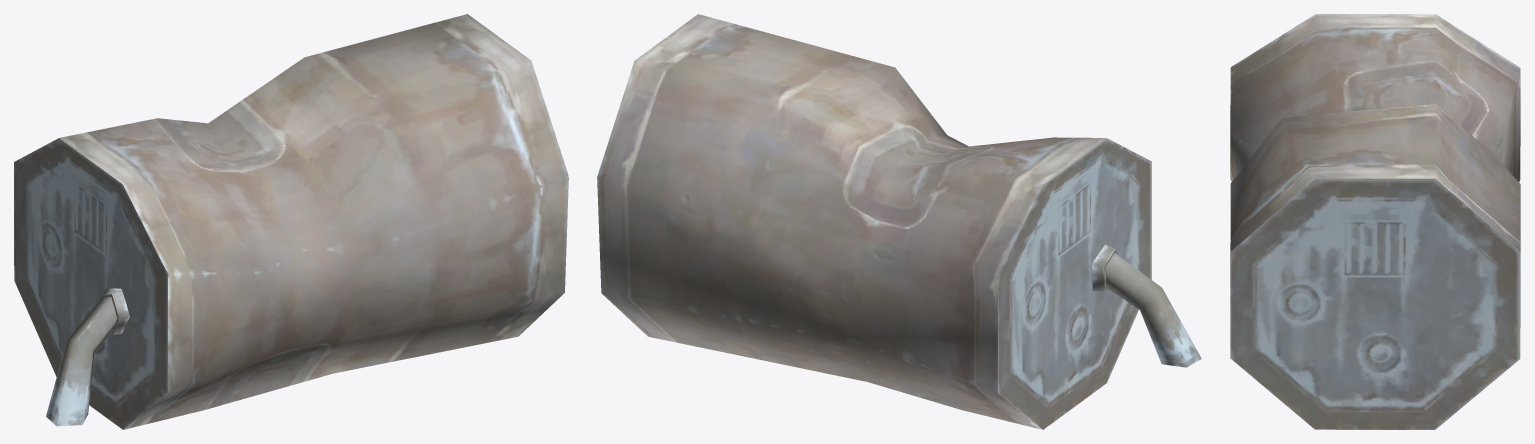
The model's file is hth_item_freshraider_junk_16.glb.
3 views of the same model, side by side, from view 1: azimuth 30°, elevation 25°; view 2: azimuth 150°, elevation 25°; view 3: azimuth 270°, elevation 25° (orthographic). The views are drawn at different scales.
Visible parts, largest first — view 1: hth_item_freshraider_junk_16; view 2: hth_item_freshraider_junk_16; view 3: hth_item_freshraider_junk_16.
Part boxes in pixels (bbox=[...]): hth_item_freshraider_junk_16: bbox=[14, 14, 568, 429]; hth_item_freshraider_junk_16: bbox=[597, 14, 1201, 429]; hth_item_freshraider_junk_16: bbox=[1230, 14, 1520, 429].
Size of the model in its own units: 0.1276 by 0.068 by 0.0696.
Materials: 1 (1 with a texture image).
